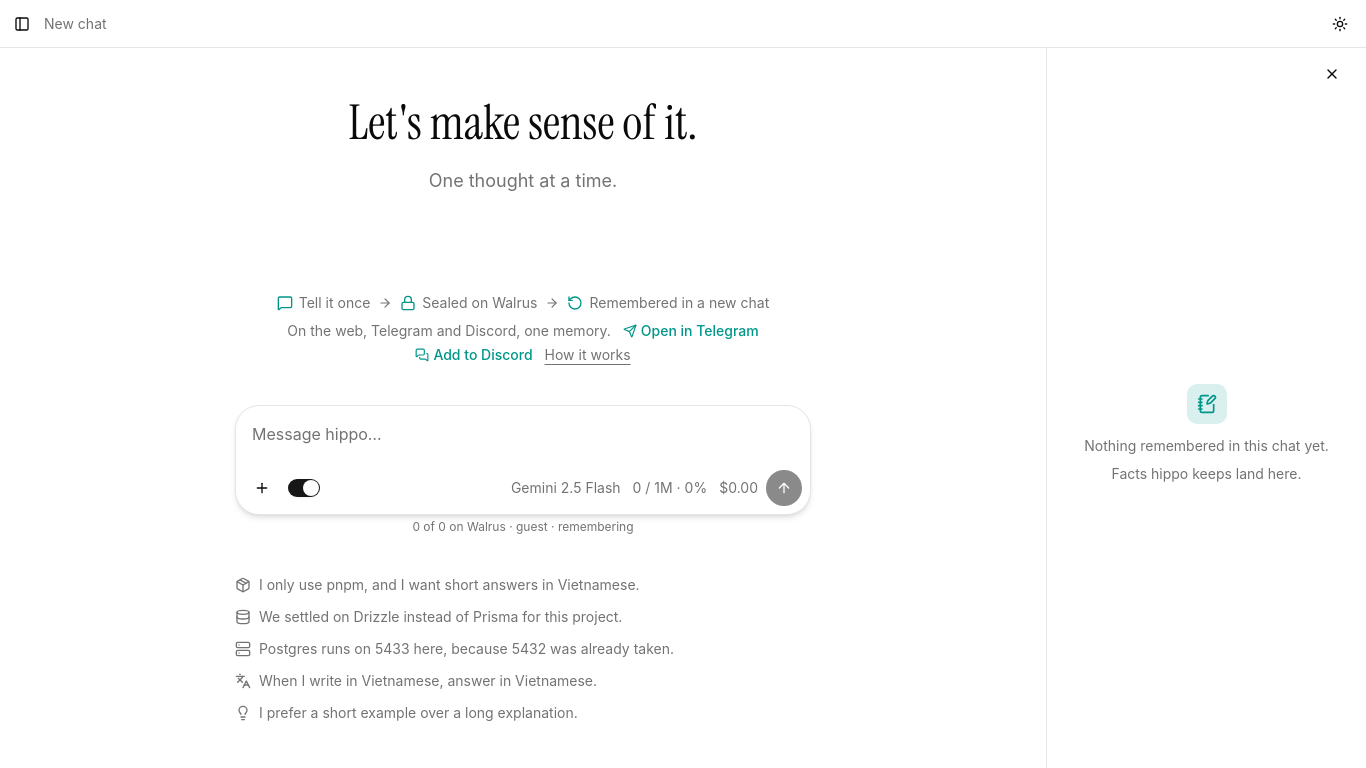
Test: chat page › asks a guest to own their memory before keeping a private file
Click the button named "Add": [262, 488] box [244,470,280,506]
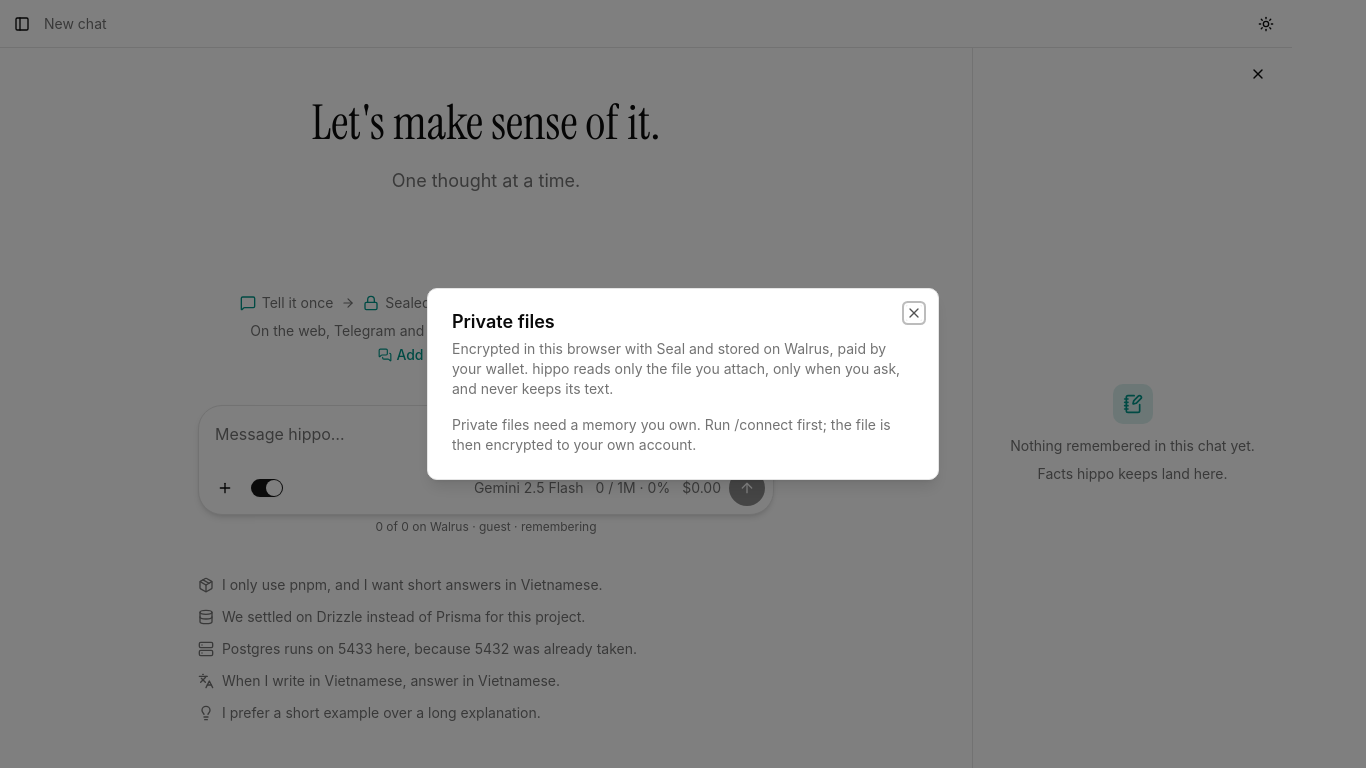
Now the dialog "Private files" is shown, box [427,288,939,480]
Now the text "Private files need a memory you own" is shown, box [452,416,891,453]
